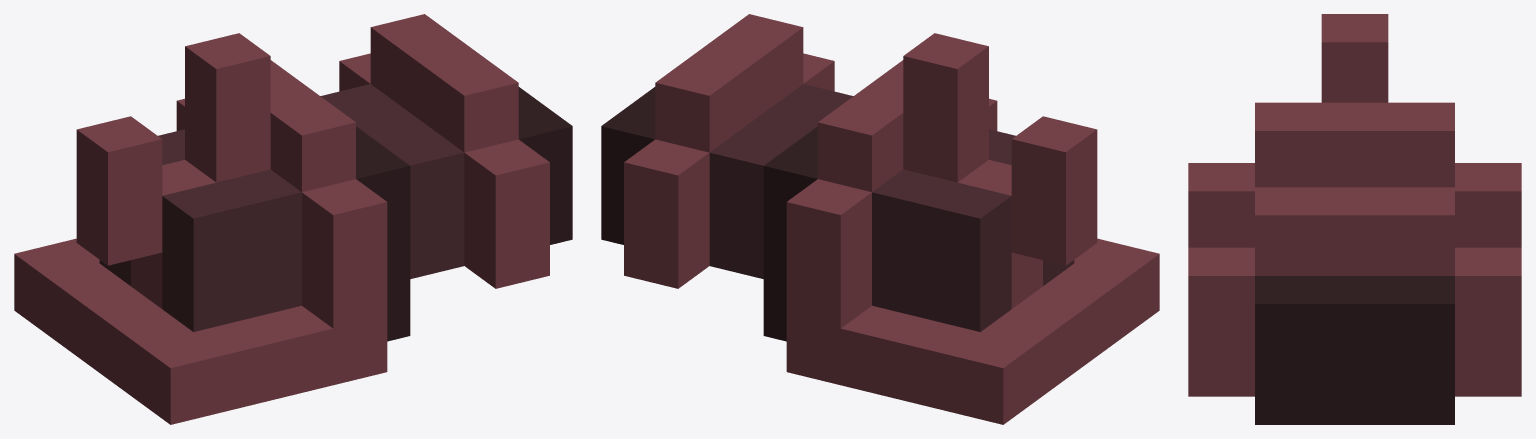
Rendered from RamzaArmUpperL.fbx.
3 views of the same model, side by side, from view 1: azimuth 30°, elevation 25°; view 2: azimuth 150°, elevation 25°; view 3: azimuth 270°, elevation 25° (orthographic). The views are drawn at different scales.
Parts seen in each view (by area): view 1: RamzaArms_part_3; view 2: RamzaArms_part_3; view 3: RamzaArms_part_3.
Part boxes in pixels (<box>): RamzaArms_part_3: <box>14,14,572,424</box>; RamzaArms_part_3: <box>601,14,1159,424</box>; RamzaArms_part_3: <box>1188,14,1521,424</box>.
Bounding box in the file's own units: 8 × 5 × 5.
1 material, 1 textured.
